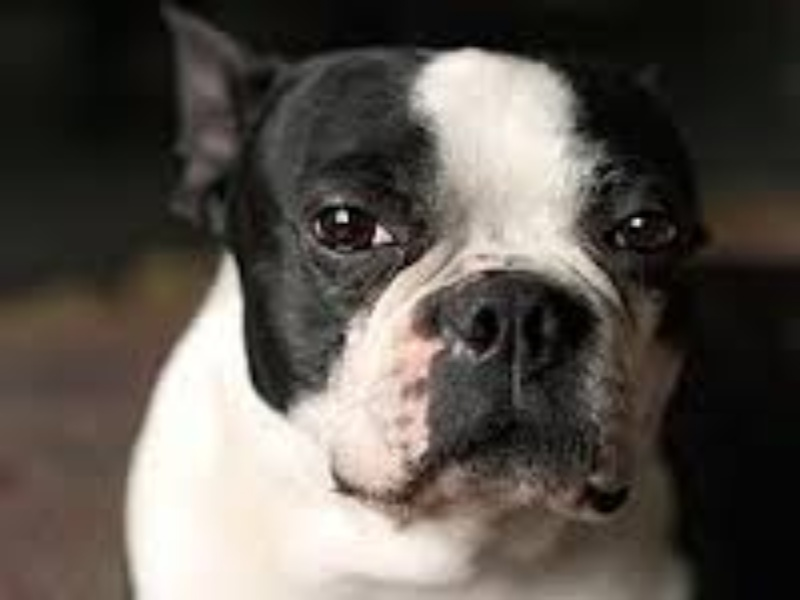dog: (71, 16, 707, 558)
